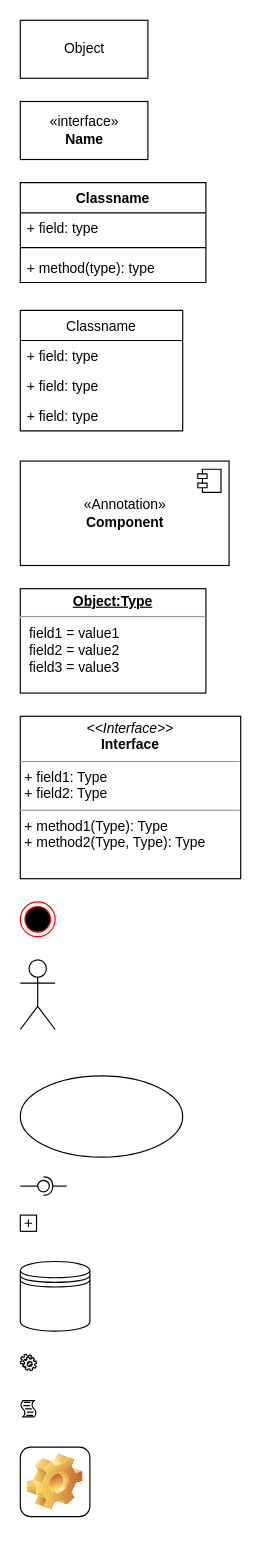
This 261x1566 diagram has some shape labels left out. Each missing label, with the centre of its shape:
"Actor" belongs at point (37, 994).
"Icon" belongs at point (54, 1481).
"Use Case" belongs at point (101, 1116).
